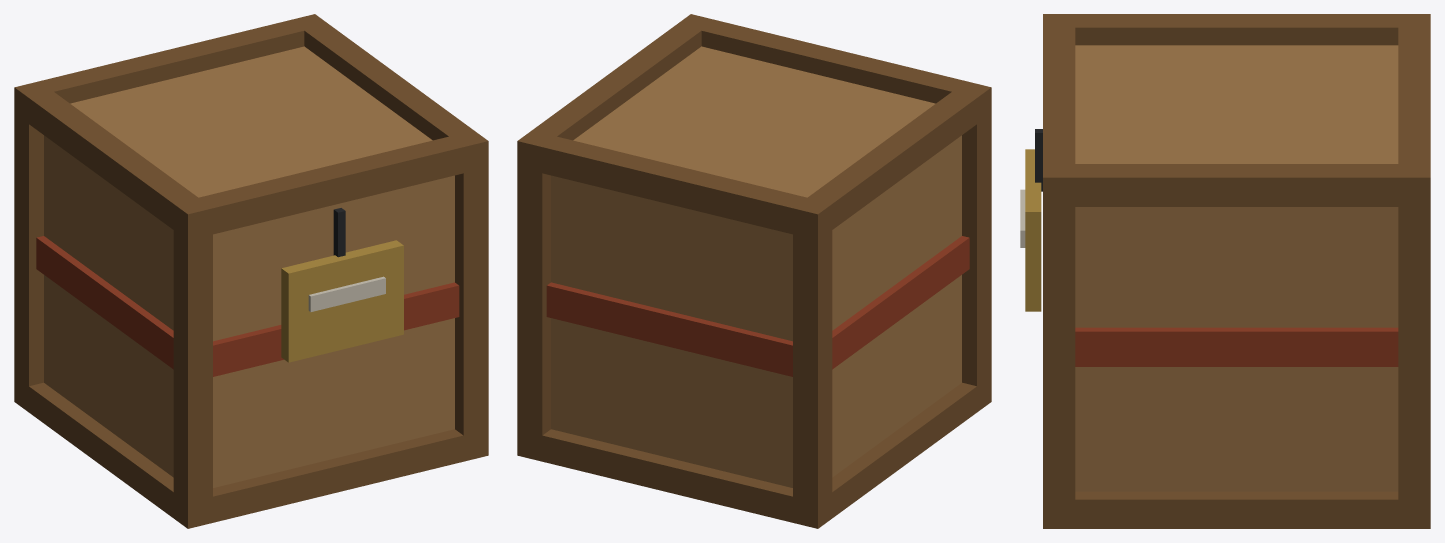
The model's file is poi_tagged_crate.glb.
The picture shows the model from 3 angles, left to right: view 1: azimuth 30°, elevation 25°; view 2: azimuth 150°, elevation 25°; view 3: azimuth 270°, elevation 25°; orthographic projection. The views are drawn at different scales.
Visible parts, largest first — view 1: TaggedCrate; view 2: TaggedCrate; view 3: TaggedCrate.
Boxes of the visible parts, box(x1,y1,x2,y2) form: TaggedCrate: box(14, 14, 488, 528); TaggedCrate: box(517, 14, 991, 528); TaggedCrate: box(1020, 14, 1430, 528).
Bounding box in the file's own units: 1.2 × 1.2 × 1.27.
